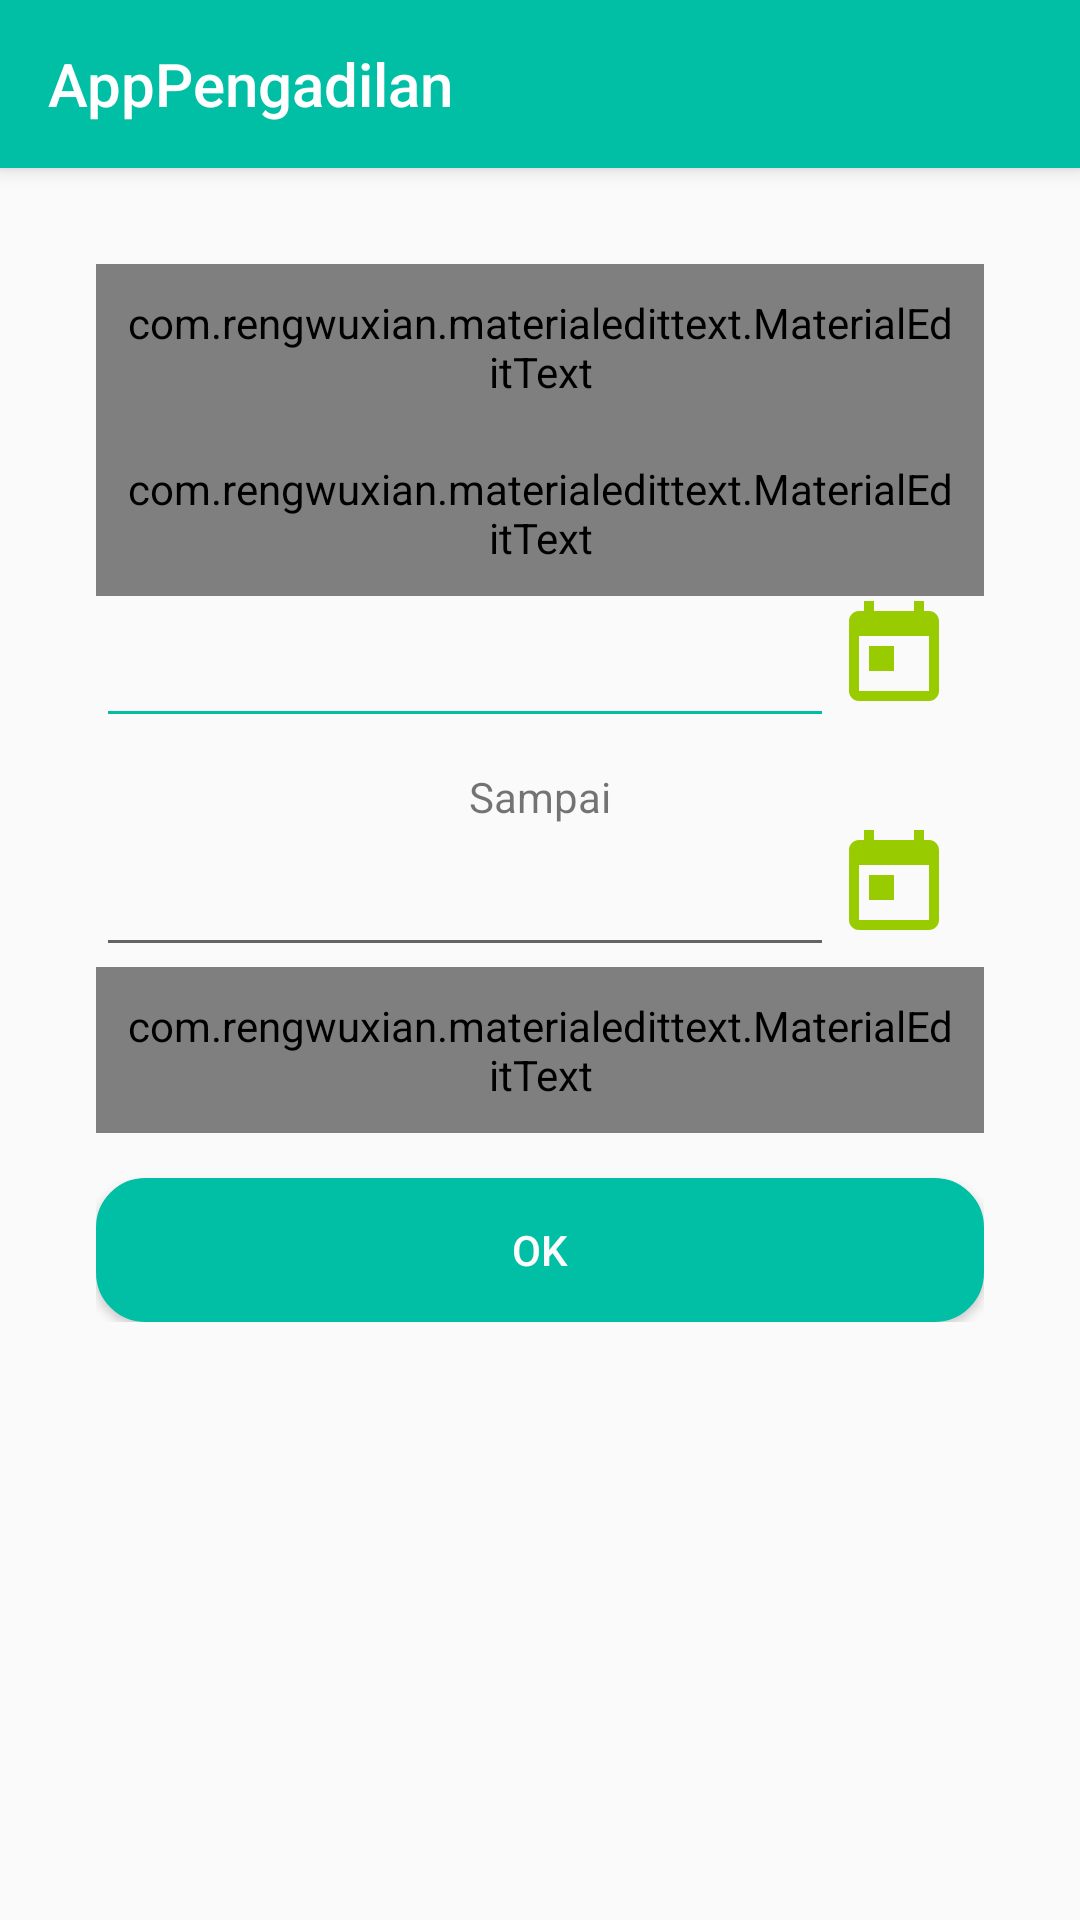

Where icons sit on this 1080w x 1920h app screen, as detection(x1, y1, x2, y2):
today: detection(849, 601, 939, 701), detection(849, 830, 939, 930)
